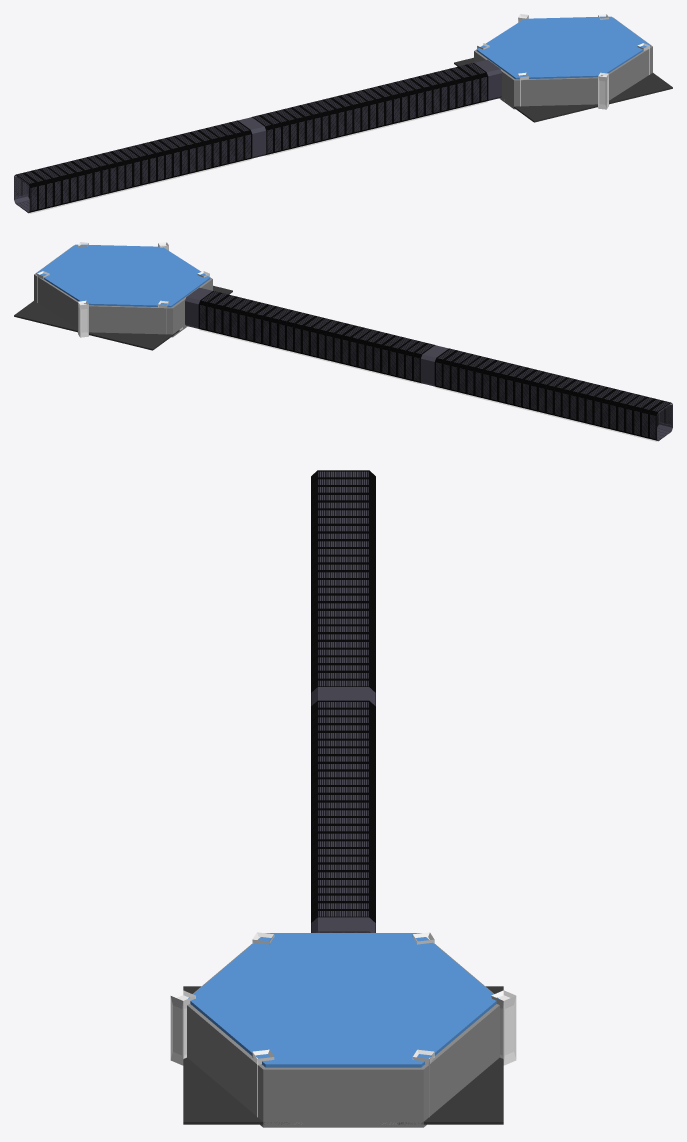
The model's file is level 3.fbx.
3 renders of one model, top to bottom at view 1: azimuth 30°, elevation 25°; view 2: azimuth 150°, elevation 25°; view 3: azimuth 270°, elevation 25°, orthographic. The views are drawn at different scales.
Parts seen in each view (by area): view 1: Plane; view 2: Plane; view 3: Plane.
Part boxes in pixels (x1,y1,x2,y2): Plane: (14, 14, 672, 213); Plane: (14, 242, 672, 441); Plane: (170, 470, 516, 1127).
Size of the model in its own units: 4400 by 223 by 1079.
